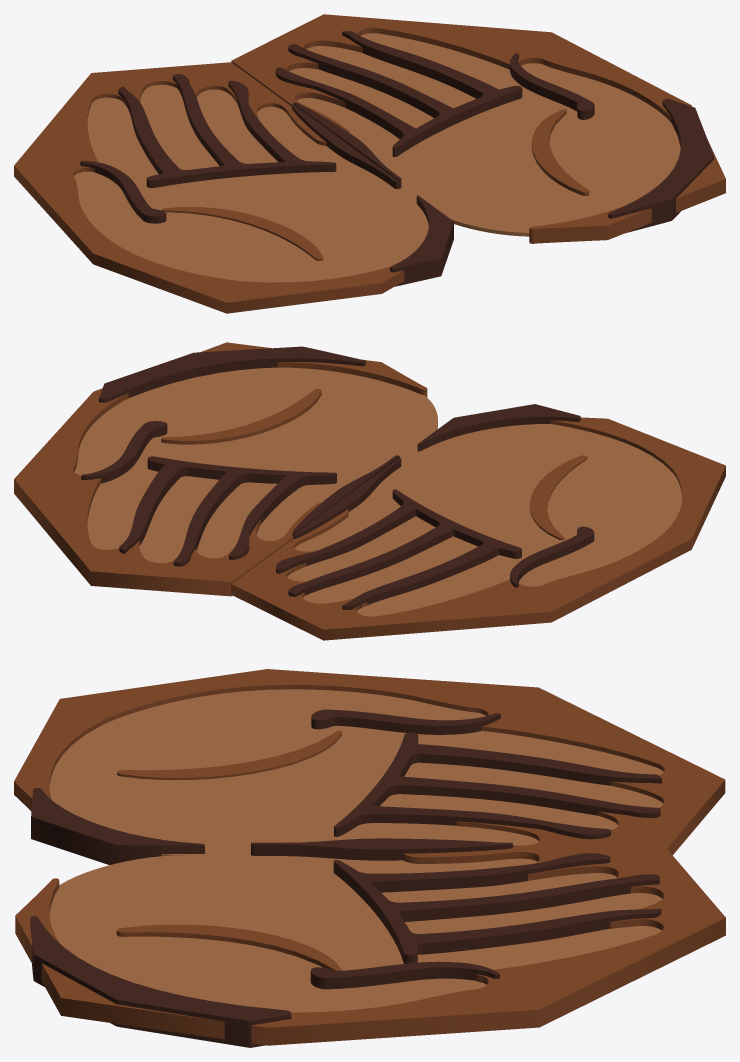
The model's file is emoji_u1f932_1f3fe.glb.
3 renders of one model, top to bottom at view 1: azimuth 30°, elevation 25°; view 2: azimuth 150°, elevation 25°; view 3: azimuth 270°, elevation 25°, orthographic. The views are drawn at different scales.
Parts seen in each view (by area): view 1: emoji_u1f932_1f3fe; view 2: emoji_u1f932_1f3fe; view 3: emoji_u1f932_1f3fe.
Part boxes in pixels (bbox=[...]): emoji_u1f932_1f3fe: bbox=[14, 14, 725, 313]; emoji_u1f932_1f3fe: bbox=[14, 342, 725, 640]; emoji_u1f932_1f3fe: bbox=[14, 669, 725, 1047].
Bounding box in the file's own units: 0.0347 × 0.0012 × 0.0289.
